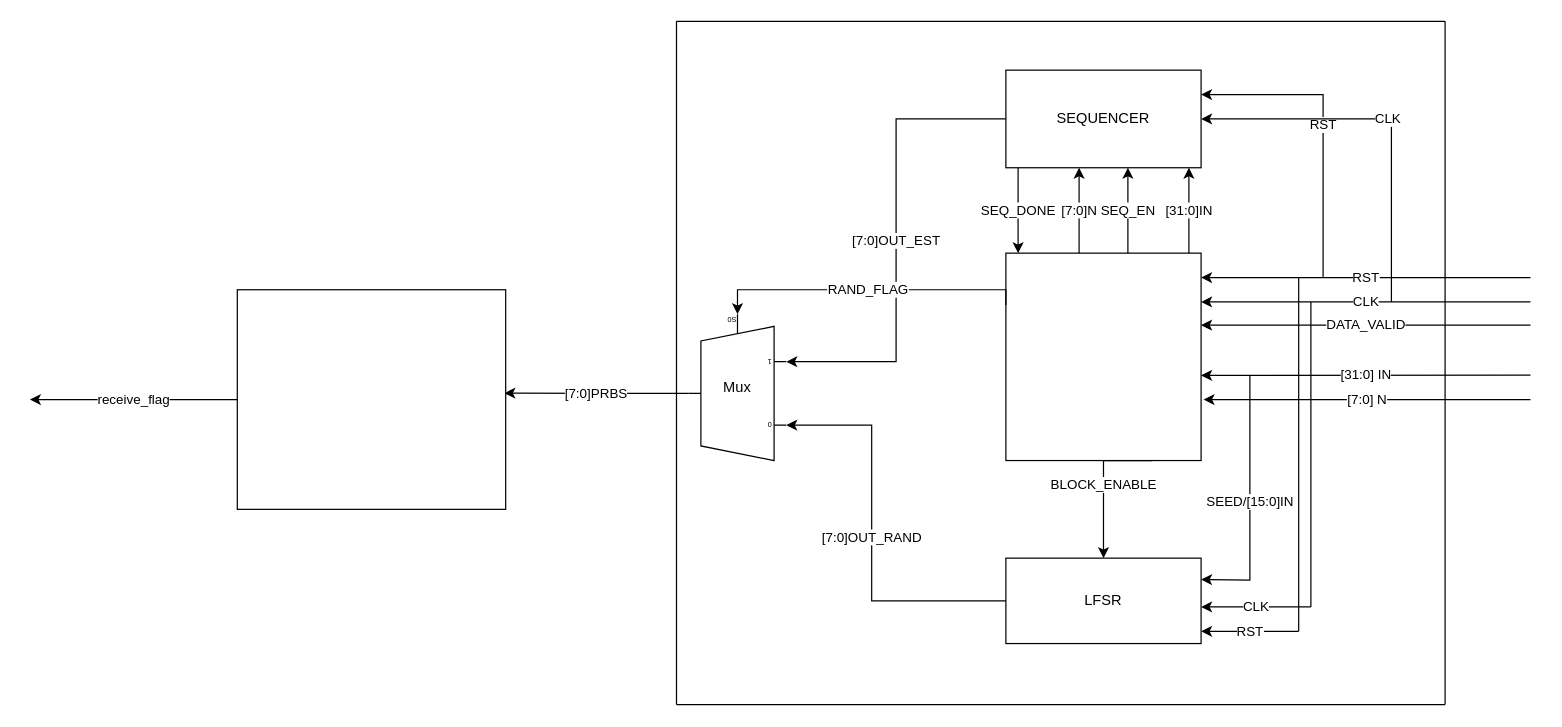
Some shapes in this 1562 by 727 pixel diagram are drawn without their labels. The shapes that lost their labels are listed below. From the top down, each one's centre as x and y in pixels, then its label:
At [1103,356]: "SEQUENCE_GEN".
At [371,399]: "RECEIVER".
